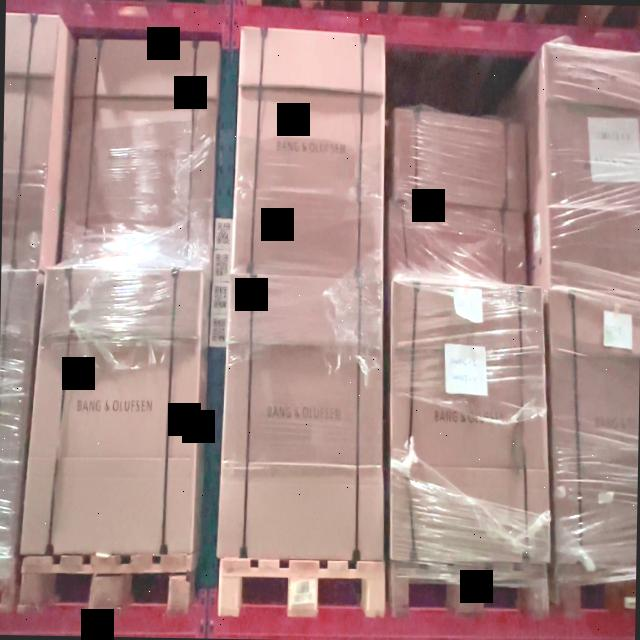box: (21, 272, 201, 551), (217, 273, 383, 556), (393, 277, 547, 558), (233, 29, 384, 275), (62, 43, 218, 267)
